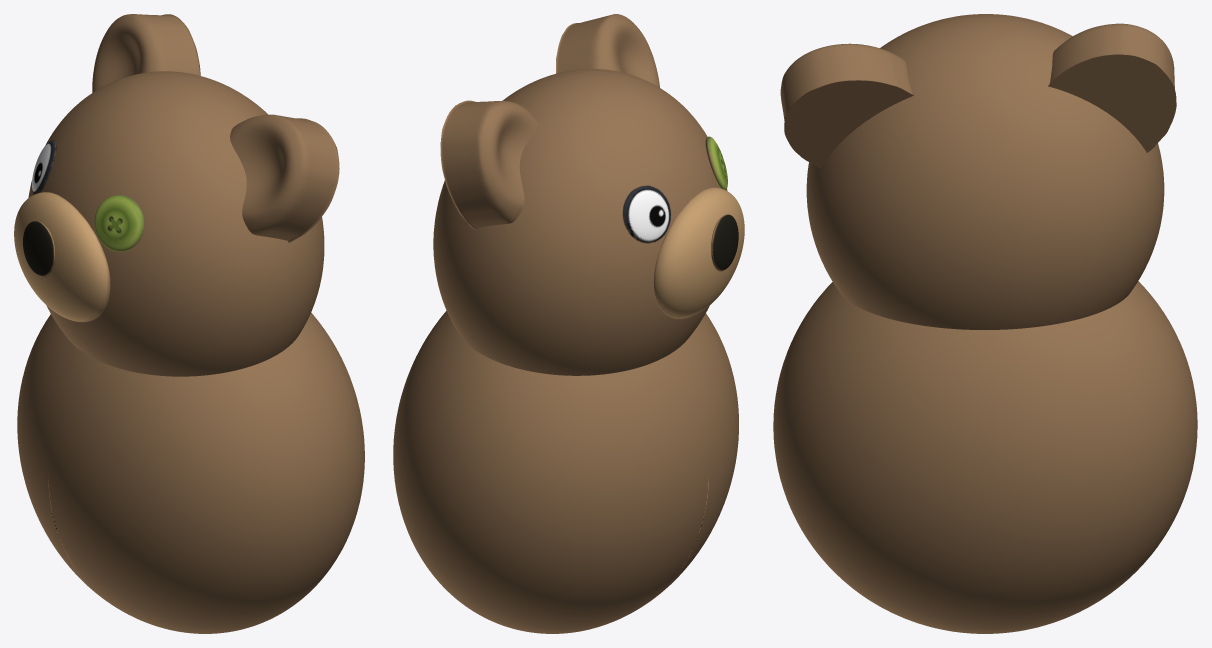
Rendered from cub.fbx.
The picture shows the model from 3 angles, left to right: view 1: azimuth 30°, elevation 25°; view 2: azimuth 150°, elevation 25°; view 3: azimuth 270°, elevation 25°; orthographic projection. The views are drawn at different scales.
Visible parts, largest first — view 1: cub; view 2: cub; view 3: cub.
Part boxes in pixels (x1,y1,x2,y2): cub: [14, 14, 364, 633]; cub: [393, 14, 744, 633]; cub: [773, 14, 1197, 633].
Size of the model in its own units: 29.89 by 51.97 by 33.36.
